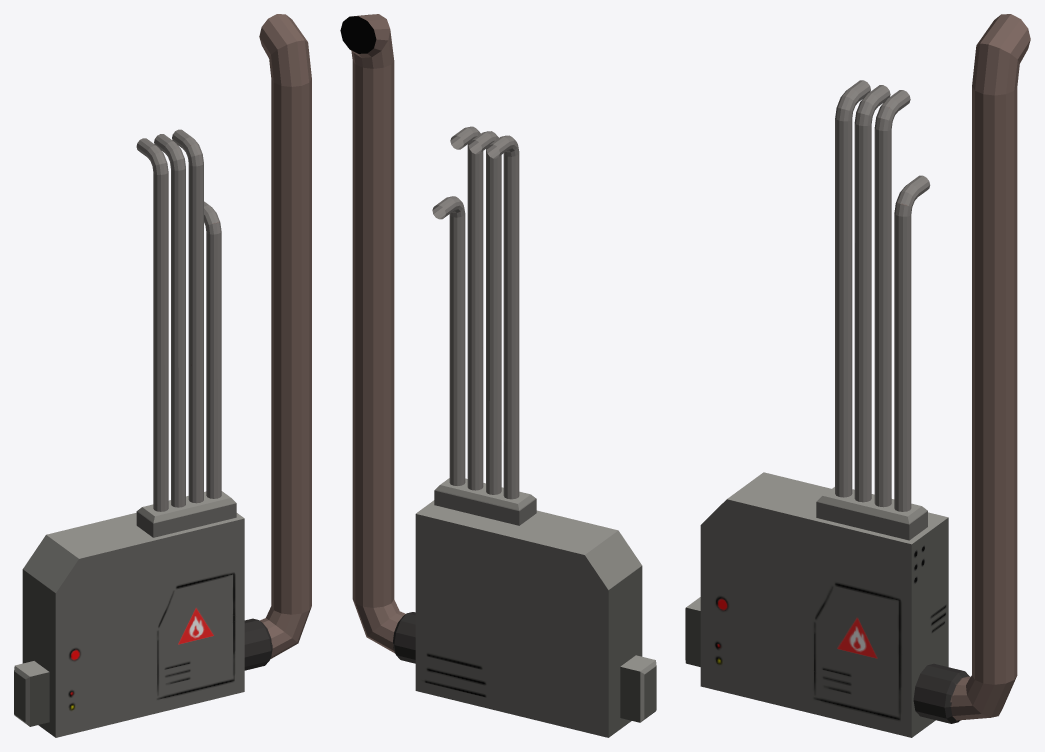
The model's file is prop.pipes.fbx.
3 views of the same model, side by side, from view 1: azimuth 30°, elevation 25°; view 2: azimuth 150°, elevation 25°; view 3: azimuth 330°, elevation 25° (orthographic). The views are drawn at different scales.
Parts seen in each view (by area): view 1: wires; view 2: wires; view 3: wires.
Boxes of the visible parts, x1,y1,x2,y2 form: wires: [14, 14, 311, 737]; wires: [340, 14, 656, 737]; wires: [685, 14, 1030, 737].
Bounding box in the file's own units: 443 × 939 × 87.55.
